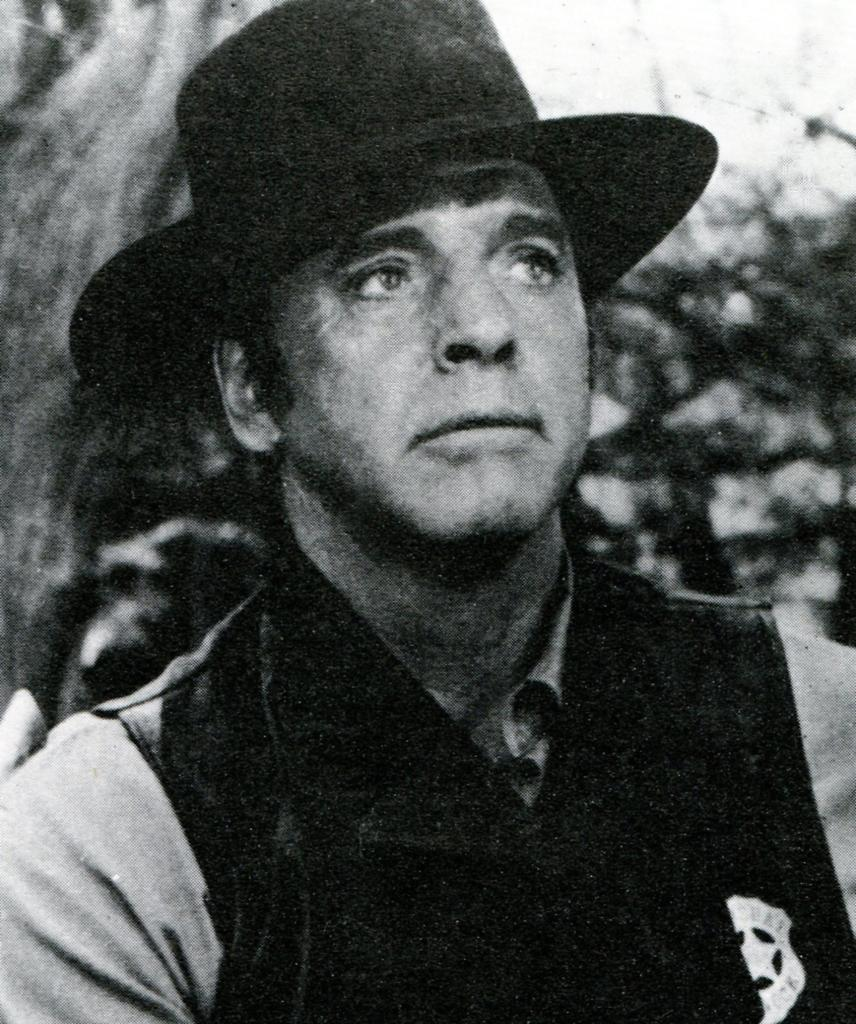Hat: (66, 0, 716, 409)
